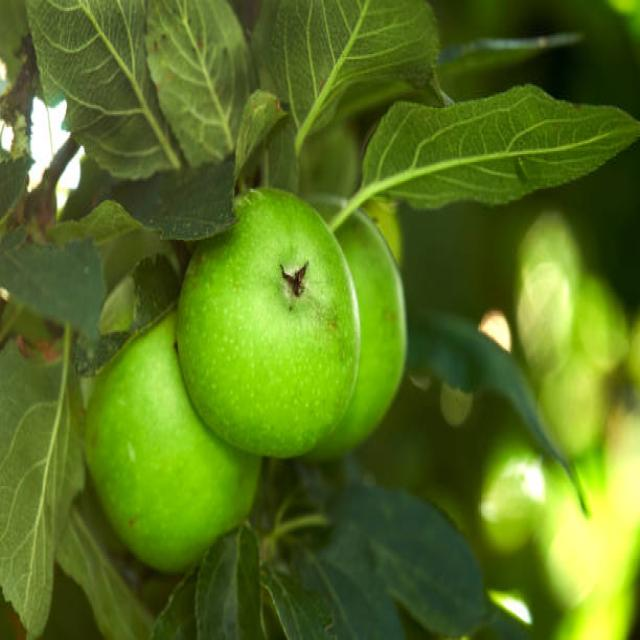Unripe: (178, 184, 359, 459)
